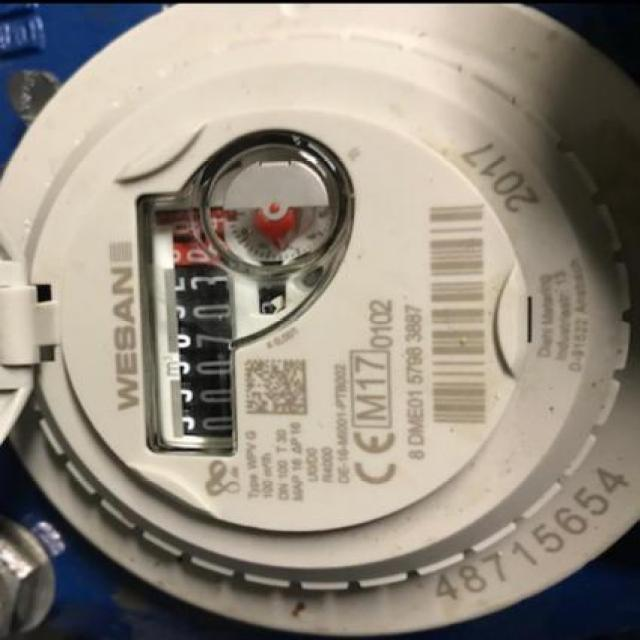gaz_meter: (18, 63, 596, 567)
indication: (169, 213, 235, 441)
